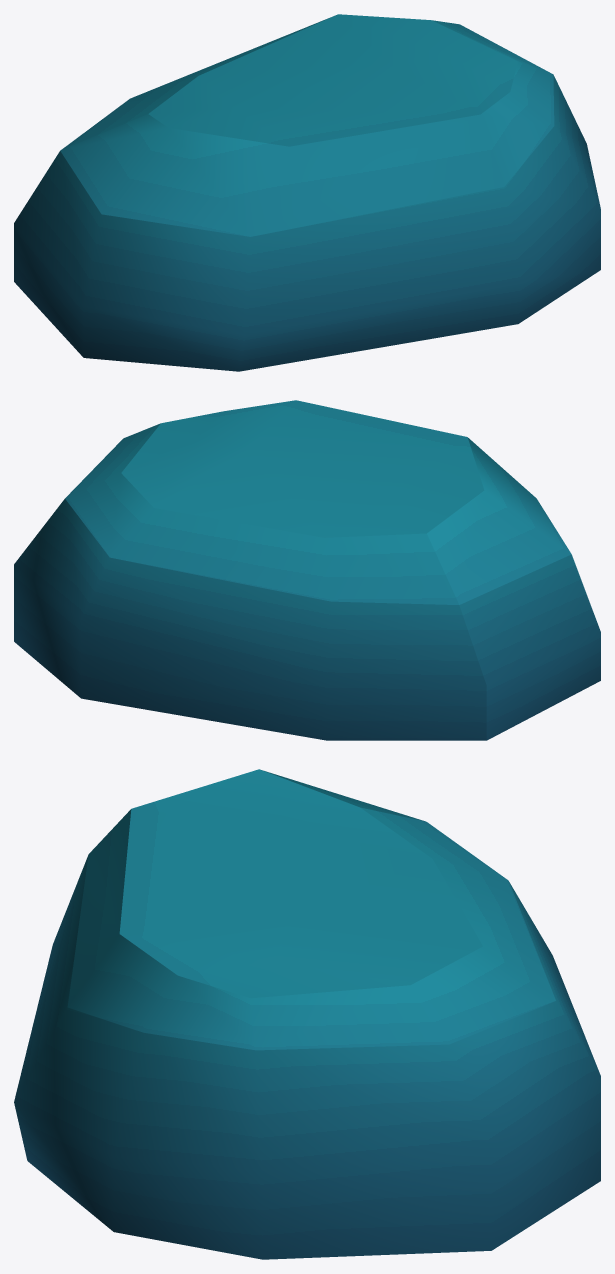
The model's file is RockA.fbx.
The picture shows the model from 3 angles, top to bottom: view 1: azimuth 30°, elevation 25°; view 2: azimuth 150°, elevation 25°; view 3: azimuth 270°, elevation 25°; orthographic projection. The views are drawn at different scales.
Visible parts, largest first — view 1: RockA; view 2: RockA; view 3: RockA.
Part boxes in pixels (left/top/right/bottom): RockA: left=14, top=14, right=600, bottom=371; RockA: left=14, top=400, right=600, bottom=740; RockA: left=14, top=769, right=600, bottom=1259.
Bounding box in the file's own units: 118 × 41.54 × 92.51.
Materials: 1 (1 with a texture image).
